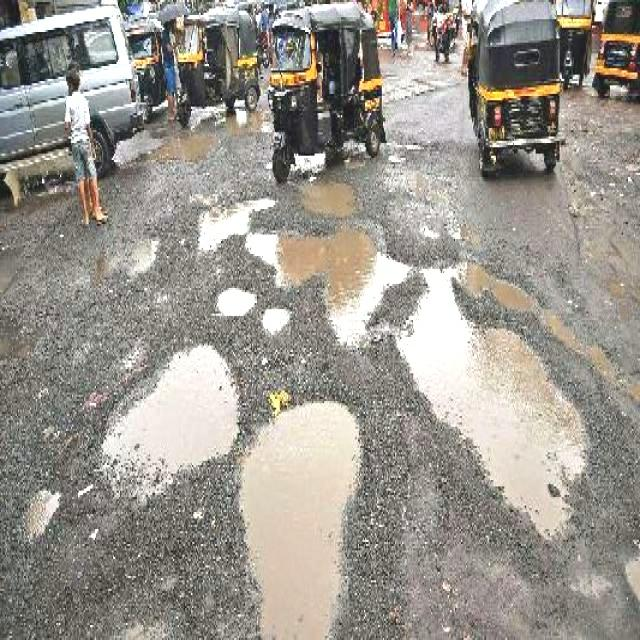Pothole: (397, 243, 597, 540), (241, 393, 366, 638), (100, 337, 241, 499), (239, 218, 414, 346), (196, 190, 277, 252), (298, 175, 360, 220), (17, 480, 62, 540), (214, 279, 257, 316), (262, 303, 294, 331)
